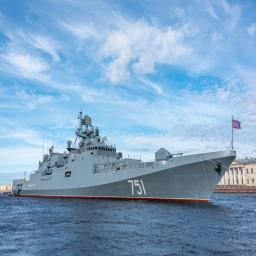Fragata: (12, 110, 240, 210)
